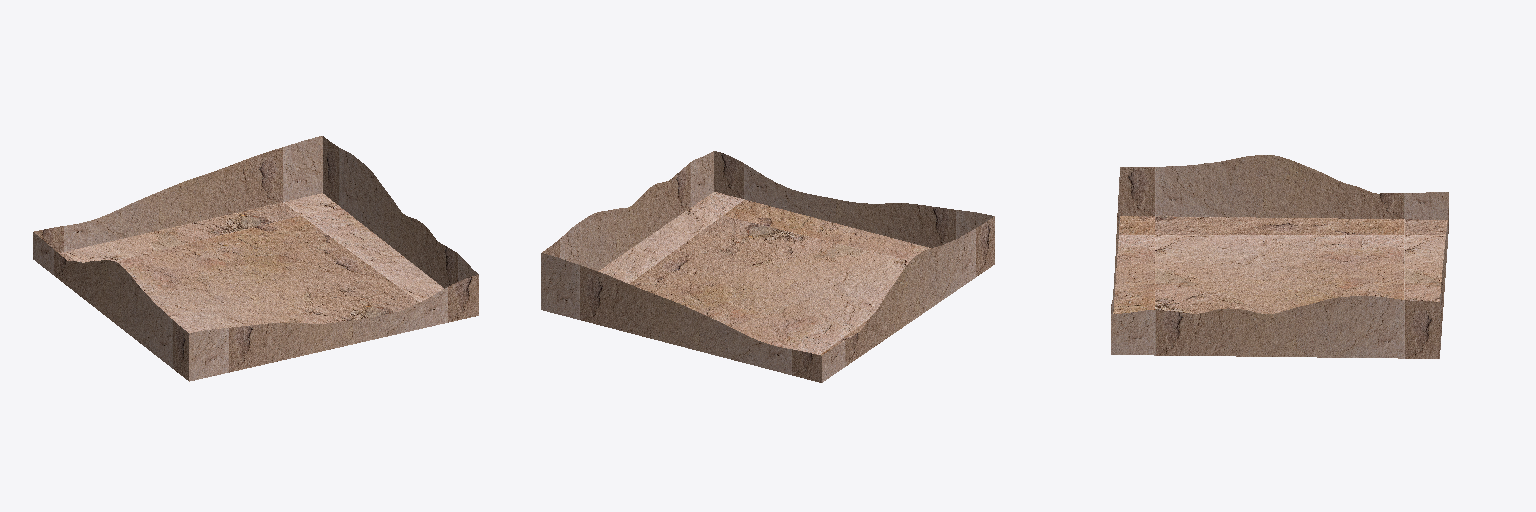
3 views of the same model, side by side, from view 1: azimuth 30°, elevation 25°; view 2: azimuth 150°, elevation 25°; view 3: azimuth 270°, elevation 25° (orthographic).
Parts seen in each view (by area): view 1: ground; view 2: ground; view 3: ground.
Part boxes in pixels (x1,y1,x2,y2): ground: (33, 136, 478, 381); ground: (541, 151, 994, 382); ground: (1111, 155, 1448, 358).
Bounding box in the file's own units: 2024 × 414 × 2025.
1 materials, 1 textured.